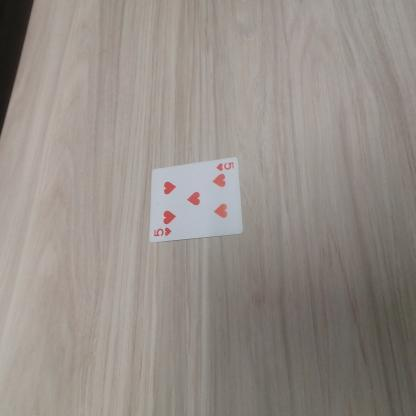5H: (212, 156, 237, 173), (152, 223, 173, 240)
